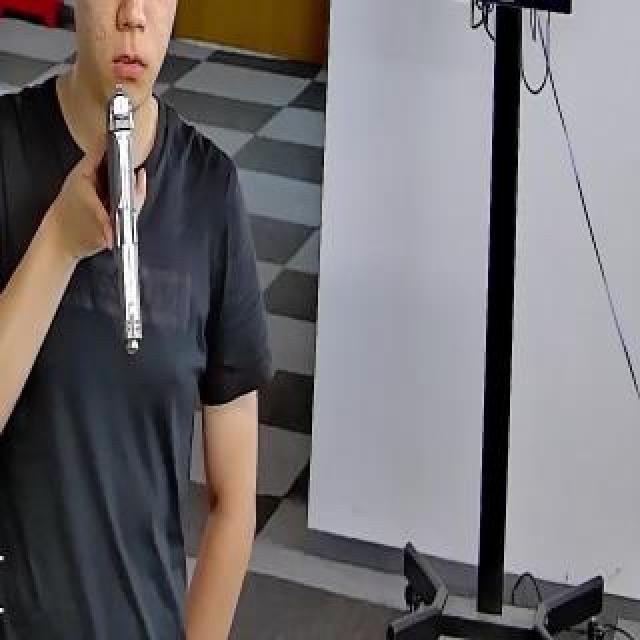Guns: (74, 54, 180, 384)
